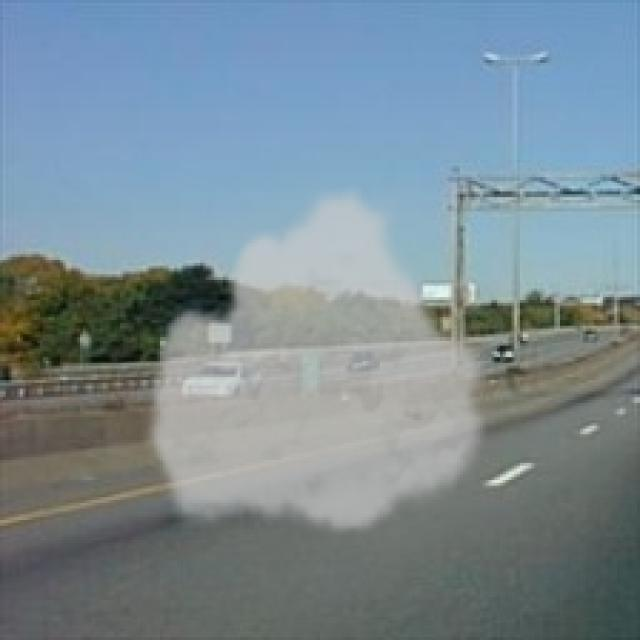smoke: (143, 180, 497, 537)
